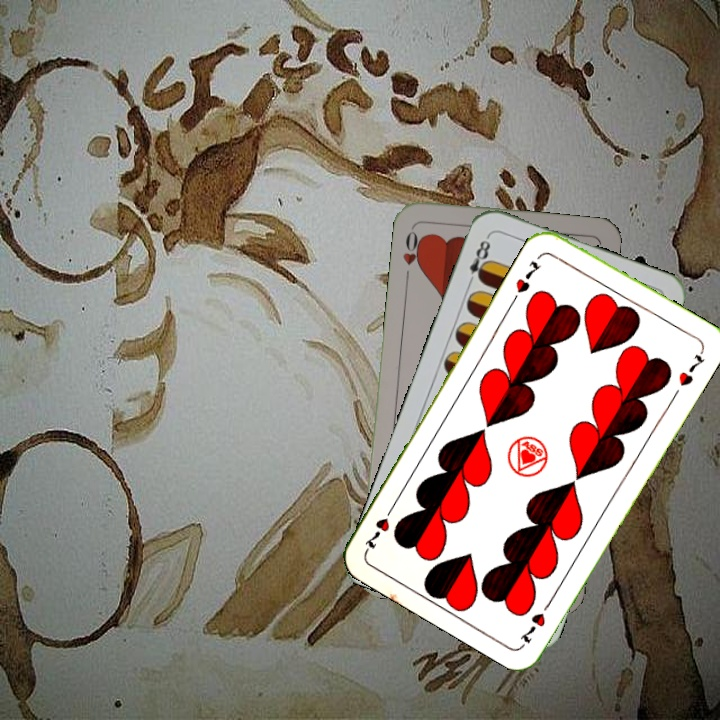E8: (463, 232, 493, 288)
H7: (516, 595, 556, 648), (511, 256, 543, 296)
HO: (399, 224, 426, 283)
